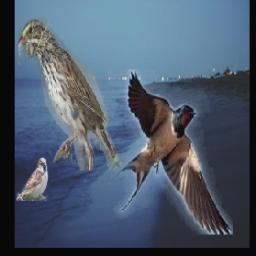Sparrow: (18, 17, 123, 170), (16, 158, 48, 202)
Swallow: (106, 69, 232, 235)
